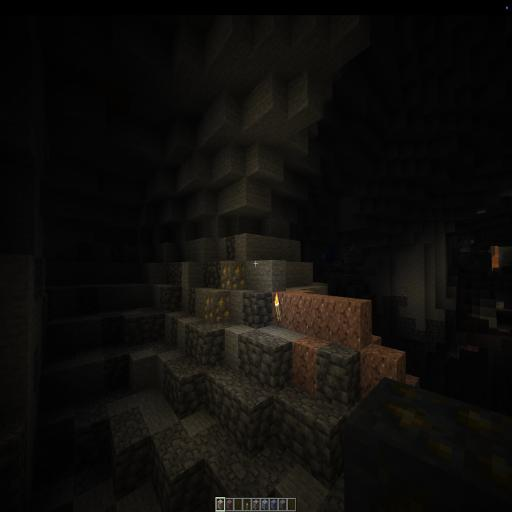gold ore: (198, 260, 249, 327)
